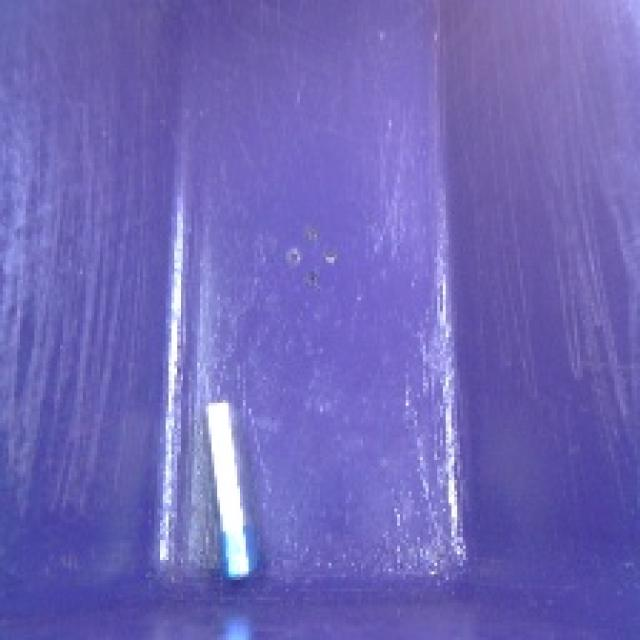battery: (196, 389, 274, 586)
